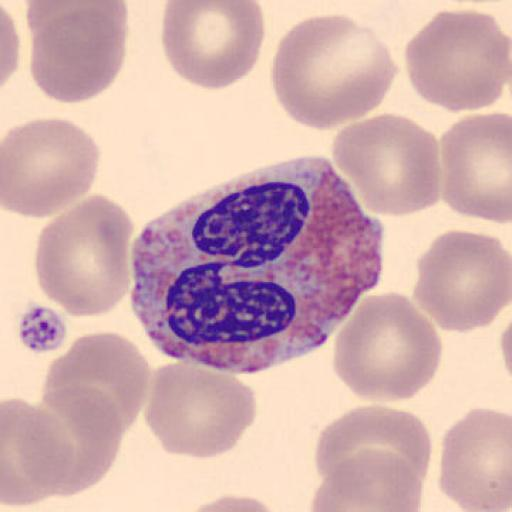Platelet: (16, 300, 70, 356)
RBC: (268, 13, 400, 131), (33, 192, 136, 320), (312, 402, 433, 508), (331, 290, 443, 404), (332, 111, 442, 218), (144, 358, 258, 460), (403, 8, 511, 114), (42, 330, 150, 434), (31, 384, 125, 500), (411, 228, 511, 334), (1, 116, 101, 220), (28, 4, 128, 104), (160, 1, 267, 91), (2, 397, 76, 507), (441, 110, 512, 224), (438, 406, 512, 512), (310, 447, 425, 512), (26, 0, 129, 51), (307, 469, 400, 512), (28, 0, 132, 23), (178, 492, 286, 512), (0, 0, 21, 91), (499, 310, 512, 385)
WBC: (131, 159, 387, 373)
